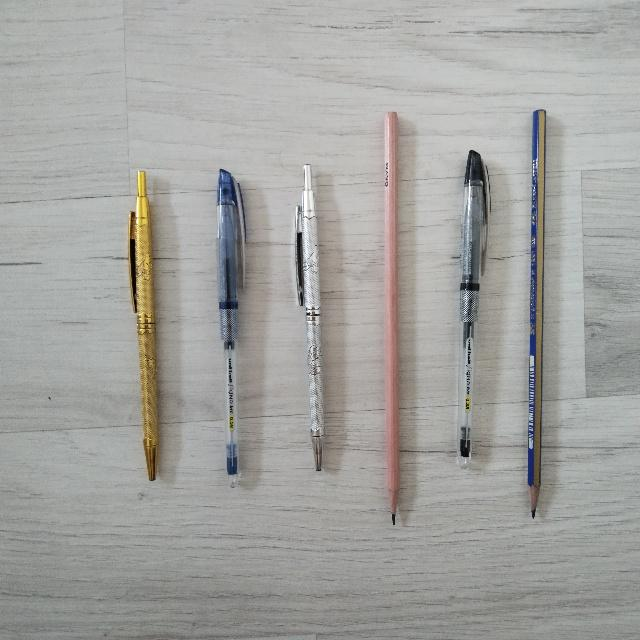pen: (458, 150, 489, 467), (217, 169, 245, 486)
pencil: (528, 110, 545, 517), (384, 112, 399, 524)
signature pen: (129, 171, 157, 480), (295, 164, 323, 470)
